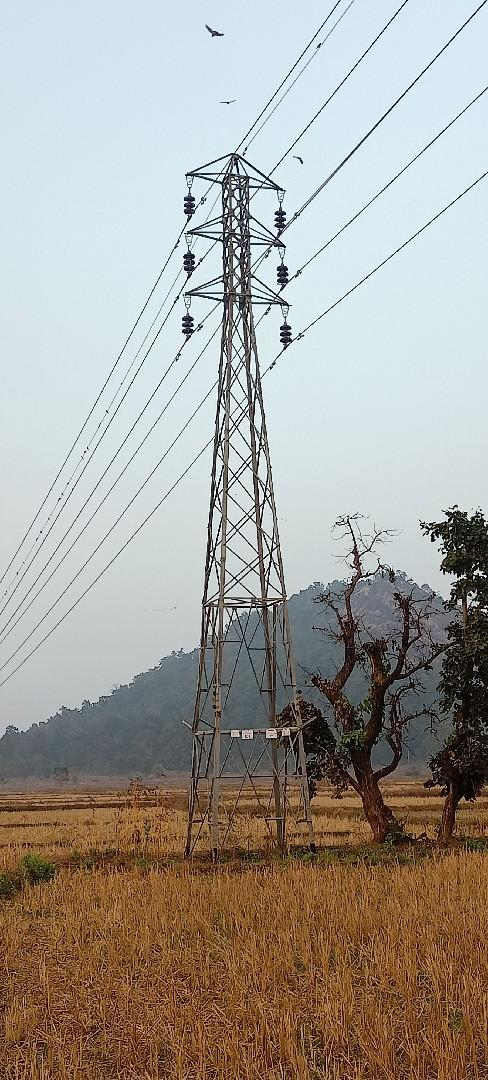GSM Antenna: (169, 146, 324, 821)
